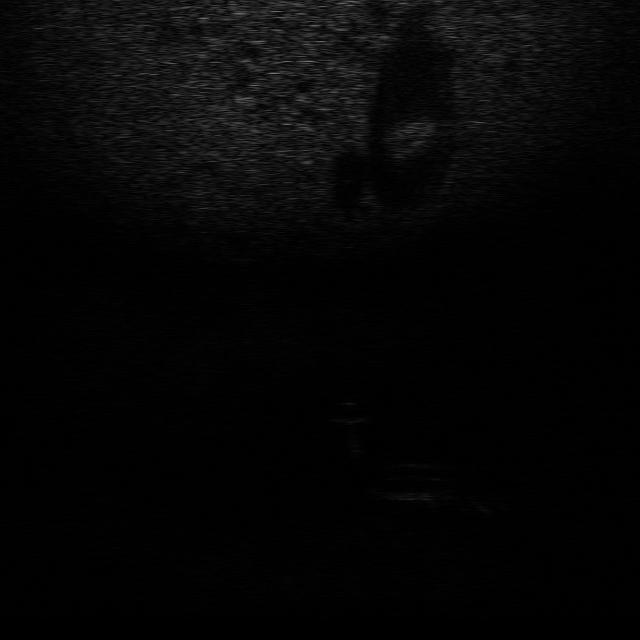ball: (325, 397, 373, 426)
tyre: (366, 458, 460, 505)
